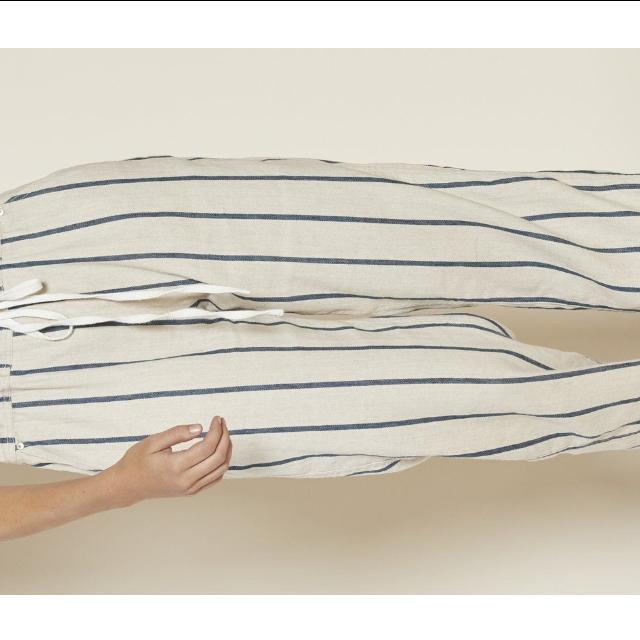linen: (0, 229, 446, 456)
